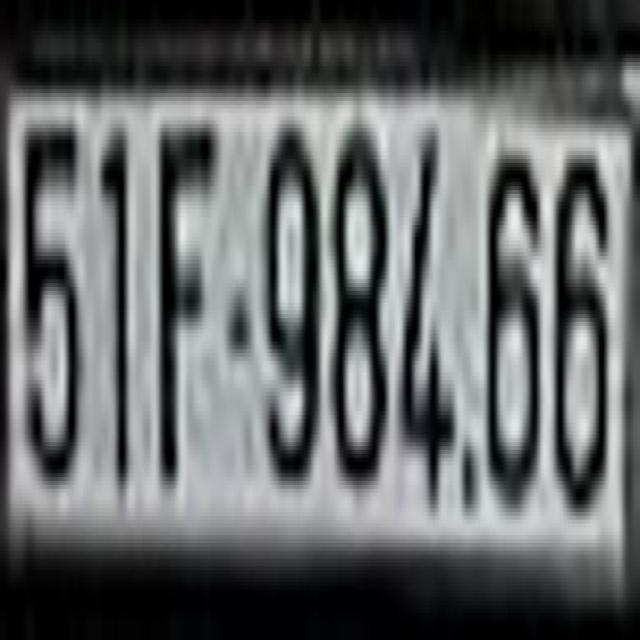1: (100, 101, 133, 512)
4: (397, 120, 458, 516)
5: (24, 105, 82, 504)
6: (552, 124, 610, 539), (486, 124, 544, 500)
8: (331, 112, 386, 485)
9: (261, 124, 322, 500)
F: (156, 97, 217, 489)
